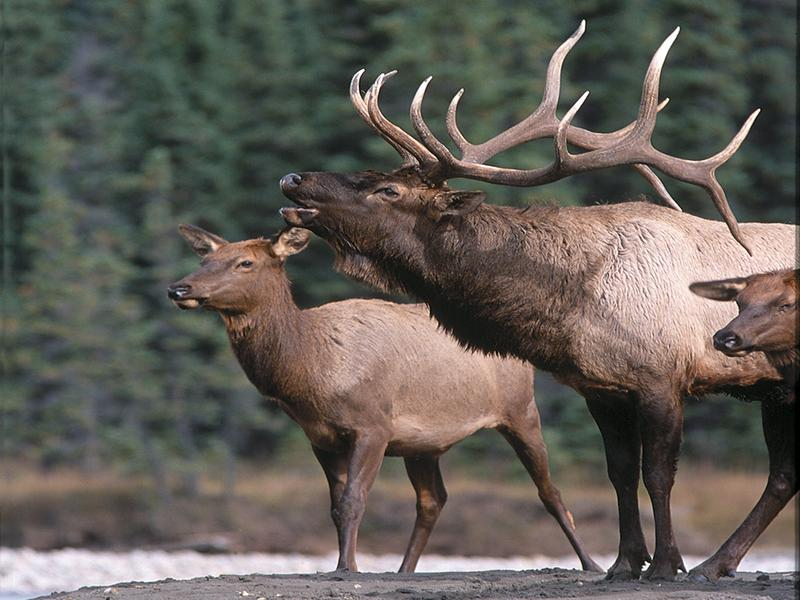elk: (280, 66, 800, 560), (177, 229, 593, 579), (694, 279, 800, 580)
